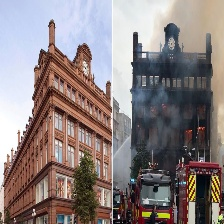fire: (187, 127, 205, 142)
smoke: (154, 1, 224, 123)
